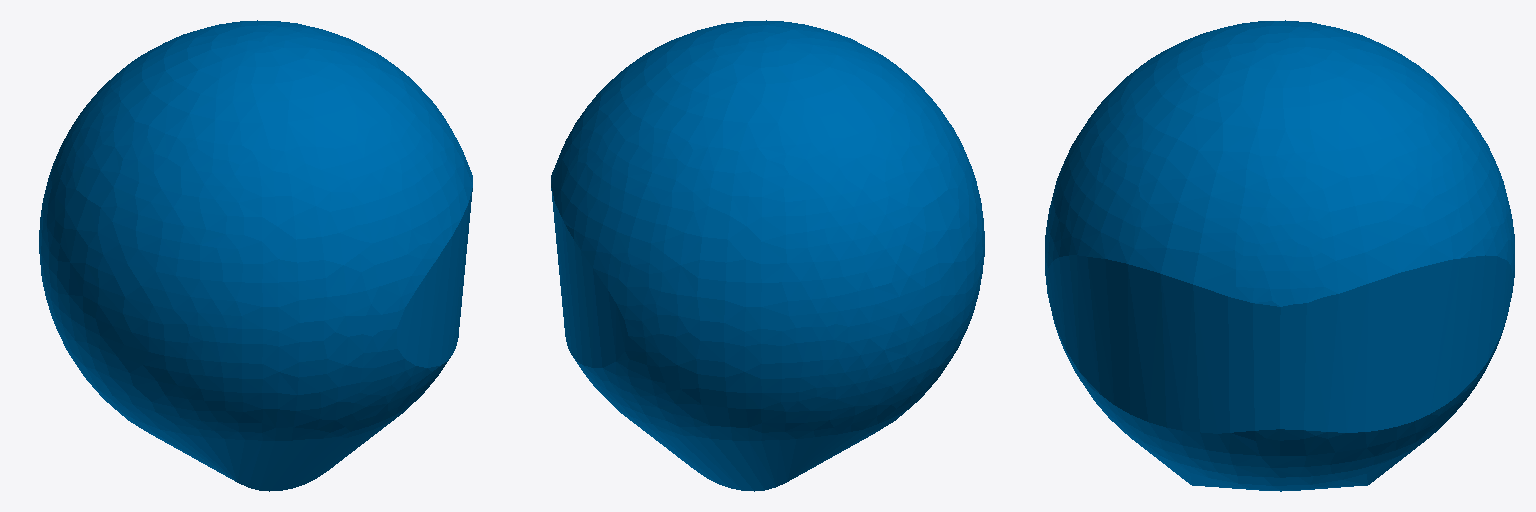
The robot description file, URDF, robot "nubots_nugus_hull":
<?xml version="1.0" ?>
<robot name="nubots_nugus_hull">
  <joint name="nubots_nugus_hull__right_shoulder_pitch" type="revolute">
    <parent link="nubots_nugus_hull__torso"/>
    <child link="nubots_nugus_hull__right_shoulder"/>
    <origin rpy="-1.57079  0       1.57079" xyz="0.005 -0.115  0.18"/>
    <axis xyz="1  0  0"/>
    <limit effort="7.3" lower="-3.14159265359" upper="3.14159265359" velocity="8.16814"/>
  </joint>
  <joint name="nubots_nugus_hull__left_shoulder_pitch" type="revolute">
    <parent link="nubots_nugus_hull__torso"/>
    <child link="nubots_nugus_hull__left_shoulder"/>
    <origin rpy="-1.57079  0       1.57079" xyz="0.005  0.115  0.18"/>
    <axis xyz="1  0  0"/>
    <limit effort="7.3" lower="-3.14159265359" upper="3.14159265359" velocity="8.16814"/>
  </joint>
  <joint name="nubots_nugus_hull__right_shoulder_roll" type="revolute">
    <parent link="nubots_nugus_hull__right_shoulder"/>
    <child link="nubots_nugus_hull__right_upper_arm"/>
    <origin rpy="1.57079  0       0" xyz="-0.015  0     0.005"/>
    <axis xyz="0  0  1"/>
    <limit effort="7.3" lower="-3.14159265359" upper="3.14159265359" velocity="8.16814"/>
  </joint>
  <joint name="nubots_nugus_hull__left_shoulder_roll" type="revolute">
    <parent link="nubots_nugus_hull__left_shoulder"/>
    <child link="nubots_nugus_hull__left_upper_arm"/>
    <origin rpy="1.57079  0       0" xyz="0.015  0     0.005"/>
    <axis xyz="0  0  1"/>
    <limit effort="7.3" lower="-3.14159265359" upper="3.14159265359" velocity="8.16814"/>
  </joint>
  <joint name="nubots_nugus_hull__right_elbow_pitch" type="revolute">
    <parent link="nubots_nugus_hull__right_upper_arm"/>
    <child link="nubots_nugus_hull__right_lower_arm"/>
    <origin rpy="0  0  0" xyz="0.01 -0.19  0.04"/>
    <axis xyz="1  0  0"/>
    <limit effort="7.3" lower="-3.14159265359" upper="3.14159265359" velocity="8.16814"/>
  </joint>
  <joint name="nubots_nugus_hull__left_elbow_pitch" type="revolute">
    <parent link="nubots_nugus_hull__left_upper_arm"/>
    <child link="nubots_nugus_hull__left_lower_arm"/>
    <origin rpy="0  0  0" xyz="-0.01    -0.19     0.03999"/>
    <axis xyz="1  0  0"/>
    <limit effort="7.3" lower="-3.14159265359" upper="3.14159265359" velocity="8.16814"/>
  </joint>
  <joint name="nubots_nugus_hull__right_hip_yaw" type="revolute">
    <parent link="nubots_nugus_hull__torso"/>
    <child link="nubots_nugus_hull__right_hip_yaw"/>
    <origin rpy="0       0       1.57079" xyz="0    -0.055  0"/>
    <axis xyz="0  0  1"/>
    <limit effort="10.0" lower="-3.14159265359" upper="3.14159265359" velocity="5.75959"/>
  </joint>
  <joint name="nubots_nugus_hull__left_hip_yaw" type="revolute">
    <parent link="nubots_nugus_hull__torso"/>
    <child link="nubots_nugus_hull__left_hip_yaw"/>
    <origin rpy="0       0       1.57079" xyz="0     0.055  0"/>
    <axis xyz="0  0  1"/>
    <limit effort="10.0" lower="-3.14159265359" upper="3.14159265359" velocity="5.75959"/>
  </joint>
  <joint name="nubots_nugus_hull__right_hip_roll" type="revolute">
    <parent link="nubots_nugus_hull__right_hip_yaw"/>
    <child link="nubots_nugus_hull__right_hip_roll"/>
    <origin rpy="0  0  0" xyz="0    0   -0.06"/>
    <axis xyz="0 -1  0"/>
    <limit effort="10.0" lower="-3.14159265359" upper="3.14159265359" velocity="5.75959"/>
  </joint>
  <joint name="nubots_nugus_hull__left_hip_roll" type="revolute">
    <parent link="nubots_nugus_hull__left_hip_yaw"/>
    <child link="nubots_nugus_hull__left_hip_roll"/>
    <origin rpy="0  0  0" xyz="0    0   -0.06"/>
    <axis xyz="0 -1  0"/>
    <limit effort="10.0" lower="-3.14159265359" upper="3.14159265359" velocity="5.75959"/>
  </joint>
  <joint name="nubots_nugus_hull__right_hip_pitch" type="revolute">
    <parent link="nubots_nugus_hull__right_hip_roll"/>
    <child link="nubots_nugus_hull__right_upper_leg"/>
    <origin rpy="-0.05  0    0" xyz="0   -0.01  0.01"/>
    <axis xyz="1  0  0"/>
    <limit effort="10.0" lower="-3.14159265359" upper="3.14159265359" velocity="5.75959"/>
  </joint>
  <joint name="nubots_nugus_hull__left_hip_pitch" type="revolute">
    <parent link="nubots_nugus_hull__left_hip_roll"/>
    <child link="nubots_nugus_hull__left_upper_leg"/>
    <origin rpy="-0.05  0    0" xyz="0   -0.01  0"/>
    <axis xyz="1  0  0"/>
    <limit effort="10.0" lower="-3.14159265359" upper="3.14159265359" velocity="5.75959"/>
  </joint>
  <joint name="nubots_nugus_hull__right_knee_pitch" type="revolute">
    <parent link="nubots_nugus_hull__right_upper_leg"/>
    <child link="nubots_nugus_hull__right_lower_leg"/>
    <origin rpy="0.05  0    0" xyz="0       0.00999 -0.19975"/>
    <axis xyz="1  0  0"/>
    <limit effort="10.0" lower="-3.14159265359" upper="3.14159265359" velocity="5.75959"/>
  </joint>
  <joint name="nubots_nugus_hull__left_knee_pitch" type="revolute">
    <parent link="nubots_nugus_hull__left_upper_leg"/>
    <child link="nubots_nugus_hull__left_lower_leg"/>
    <origin rpy="0.05  0    0" xyz="0       0.00949 -0.18976"/>
    <axis xyz="1  0  0"/>
    <limit effort="10.0" lower="-3.14159265359" upper="3.14159265359" velocity="5.75959"/>
  </joint>
  <joint name="nubots_nugus_hull__right_ankle_pitch" type="revolute">
    <parent link="nubots_nugus_hull__right_lower_leg"/>
    <child link="nubots_nugus_hull__right_ankle"/>
    <origin rpy="3.14159  0       3.14159" xyz="0    0.01 -0.2"/>
    <axis xyz="-1  0  0"/>
    <limit effort="10.0" lower="-3.14159265359" upper="3.14159265359" velocity="5.75959"/>
  </joint>
  <joint name="nubots_nugus_hull__left_ankle_pitch" type="revolute">
    <parent link="nubots_nugus_hull__left_lower_leg"/>
    <child link="nubots_nugus_hull__left_ankle"/>
    <origin rpy="3.14159  0       3.14159" xyz="0    0.01 -0.2"/>
    <axis xyz="-1  0  0"/>
    <limit effort="10.0" lower="-3.14159265359" upper="3.14159265359" velocity="5.75959"/>
  </joint>
  <joint name="nubots_nugus_hull__right_ankle_roll" type="revolute">
    <parent link="nubots_nugus_hull__right_ankle"/>
    <child link="nubots_nugus_hull__right_foot"/>
    <origin rpy="3.14159  0      -3.14159" xyz="0    0.04  0"/>
    <axis xyz="0 -1  0"/>
    <limit effort="10.0" lower="-3.14159265359" upper="3.14159265359" velocity="5.75959"/>
  </joint>
  <joint name="nubots_nugus_hull__left_ankle_roll" type="revolute">
    <parent link="nubots_nugus_hull__left_ankle"/>
    <child link="nubots_nugus_hull__left_foot"/>
    <origin rpy="3.14159  0      -3.14159" xyz="0    0.04  0"/>
    <axis xyz="0 -1  0"/>
    <limit effort="10.0" lower="-3.14159265359" upper="3.14159265359" velocity="5.75959"/>
  </joint>
  <joint name="nubots_nugus_hull__neck_yaw" type="revolute">
    <parent link="nubots_nugus_hull__torso"/>
    <child link="nubots_nugus_hull__neck"/>
    <origin rpy="0       0       1.57079" xyz="0    0    0.26"/>
    <axis xyz="0  0  1"/>
    <limit effort="7.3" lower="-3.14159265359" upper="3.14159265359" velocity="8.16814"/>
  </joint>
  <joint name="nubots_nugus_hull__head_pitch" type="revolute">
    <parent link="nubots_nugus_hull__neck"/>
    <child link="nubots_nugus_hull__head"/>
    <origin rpy="0  0  0" xyz="0    0    0.07"/>
    <axis xyz="1  0  0"/>
    <limit effort="7.3" lower="-3.14159265359" upper="3.14159265359" velocity="8.16814"/>
  </joint>
  <link name="nubots_nugus_hull__torso">
    <inertial>
      <mass value="2.539"/>
      <origin rpy="0  0  0" xyz="0.005    0.00888  0.10215"/>
      <inertia ixx="0.0166572872071" ixy="0.00154518589069" ixz="0.00493865774288" iyy="0.00422523541751" iyz="0.00120275338963" izz="0.0555077839106"/>
    </inertial>
    <collision name="nubots_nugus_hull__torso_collision">
      <origin rpy="0       0       1.57079" xyz="0  0  0"/>
      <geometry>
        <mesh filename="mesh/torso.stl" scale="1 1 1"/>
      </geometry>
    </collision>
    <visual name="nubots_nugus_hull__torso_visual">
      <origin rpy="0       0       1.57079" xyz="0  0  0"/>
      <geometry>
        <mesh filename="mesh/torso.stl" scale="1 1 1"/>
      </geometry>
    </visual>
  </link>
  <link name="nubots_nugus_hull__right_shoulder">
    <inertial>
      <mass value="0.025434"/>
      <origin rpy="0  0  0" xyz="0.00349 -0.00168  0.00375"/>
      <inertia ixx="0.000636" ixy="2e-06" ixz="-3.5e-05" iyy="0.000485" iyz="6e-06" izz="0.000628"/>
    </inertial>
    <collision name="nubots_nugus_hull__right_shoulder_collision">
      <origin rpy="0  0  0" xyz="0  0  0"/>
      <geometry>
        <mesh filename="mesh/right_shoulder.stl" scale="1 1 1"/>
      </geometry>
    </collision>
    <visual name="nubots_nugus_hull__right_shoulder_visual">
      <origin rpy="0  0  0" xyz="0  0  0"/>
      <geometry>
        <mesh filename="mesh/right_shoulder.stl" scale="1 1 1"/>
      </geometry>
    </visual>
  </link>
  <link name="nubots_nugus_hull__left_shoulder">
    <inertial>
      <mass value="0.025434"/>
      <origin rpy="0  0  0" xyz="0.00349 -0.00168  0.00375"/>
      <inertia ixx="0.000636" ixy="-2e-06" ixz="-3.5e-05" iyy="0.000485" iyz="-6e-06" izz="0.000628"/>
    </inertial>
    <collision name="nubots_nugus_hull__left_shoulder_collision">
      <origin rpy="0  0  0" xyz="0  0  0"/>
      <geometry>
        <mesh filename="mesh/left_shoulder.stl" scale="1 1 1"/>
      </geometry>
    </collision>
    <visual name="nubots_nugus_hull__left_shoulder_visual">
      <origin rpy="0  0  0" xyz="0  0  0"/>
      <geometry>
        <mesh filename="mesh/left_shoulder.stl" scale="1 1 1"/>
      </geometry>
    </visual>
  </link>
  <link name="nubots_nugus_hull__right_upper_arm">
    <inertial>
      <mass value="0.297"/>
      <origin rpy="0  0  0" xyz="-0.00047 -0.00048 -0.04785"/>
      <inertia ixx="0.00244090259623" ixy="-3.67136912481e-06" ixz="-0.000138914522851" iyy="0.0022838340537" iyz="-1.97953337853e-05" izz="0.000536693721409"/>
    </inertial>
    <collision name="nubots_nugus_hull__right_upper_arm_collision">
      <origin rpy="0  0  0" xyz="0  0  0"/>
      <geometry>
        <mesh filename="mesh/right_upper_arm.stl" scale="1 1 1"/>
      </geometry>
    </collision>
    <visual name="nubots_nugus_hull__right_upper_arm_visual">
      <origin rpy="0  0  0" xyz="0  0  0"/>
      <geometry>
        <mesh filename="mesh/right_upper_arm.stl" scale="1 1 1"/>
      </geometry>
    </visual>
  </link>
  <link name="nubots_nugus_hull__left_upper_arm">
    <inertial>
      <mass value="0.297"/>
      <origin rpy="0  0  0" xyz="-0.00047  0.00048 -0.04785"/>
      <inertia ixx="0.00244090259623" ixy="-3.67136912481e-06" ixz="-0.000138914522851" iyy="0.0022838340537" iyz="-1.97953337853e-05" izz="0.000536693721409"/>
    </inertial>
    <collision name="nubots_nugus_hull__left_upper_arm_collision">
      <origin rpy="0  0  0" xyz="0  0  0"/>
      <geometry>
        <mesh filename="mesh/left_upper_arm.stl" scale="1 1 1"/>
      </geometry>
    </collision>
    <visual name="nubots_nugus_hull__left_upper_arm_visual">
      <origin rpy="0  0  0" xyz="0  0  0"/>
      <geometry>
        <mesh filename="mesh/left_upper_arm.stl" scale="1 1 1"/>
      </geometry>
    </visual>
  </link>
  <link name="nubots_nugus_hull__right_lower_arm">
    <inertial>
      <mass value="0.26"/>
      <origin rpy="0  0  0" xyz="0.05336 -0.00081  0.0006"/>
      <inertia ixx="0.0003407158556" ixy="0.000118236734121" ixz="-2.88307886182e-05" iyy="0.00176921345035" iyz="4.6856873015e-06" izz="0.00161805925411"/>
    </inertial>
    <collision name="nubots_nugus_hull__right_lower_arm_collision">
      <origin rpy="0  0  0" xyz="0  0  0"/>
      <geometry>
        <mesh filename="mesh/right_lower_arm.stl" scale="1 1 1"/>
      </geometry>
    </collision>
    <visual name="nubots_nugus_hull__right_lower_arm_visual">
      <origin rpy="0  0  0" xyz="0  0  0"/>
      <geometry>
        <mesh filename="mesh/right_lower_arm.stl" scale="1 1 1"/>
      </geometry>
    </visual>
  </link>
  <link name="nubots_nugus_hull__left_lower_arm">
    <inertial>
      <mass value="0.26"/>
      <origin rpy="0  0  0" xyz="0.05336 -0.00081  0.0006"/>
      <inertia ixx="0.0003407158556" ixy="0.000118236734121" ixz="-2.88307886182e-05" iyy="0.00176921345035" iyz="4.6856873015e-06" izz="0.00161805925411"/>
    </inertial>
    <collision name="nubots_nugus_hull__left_lower_arm_collision">
      <origin rpy="0  0  0" xyz="0  0  0"/>
      <geometry>
        <mesh filename="mesh/left_lower_arm.stl" scale="1 1 1"/>
      </geometry>
    </collision>
    <visual name="nubots_nugus_hull__left_lower_arm_visual">
      <origin rpy="0  0  0" xyz="0  0  0"/>
      <geometry>
        <mesh filename="mesh/left_lower_arm.stl" scale="1 1 1"/>
      </geometry>
    </visual>
  </link>
  <link name="nubots_nugus_hull__right_hip_yaw">
    <inertial>
      <mass value="0.067"/>
      <origin rpy="0  0  0" xyz="-0.00218 -0.04605 -0.02475"/>
      <inertia ixx="0.000882290820872" ixy="1.67744972811e-06" ixz="-7.82340516059e-06" iyy="0.0017446691852" iyz="-2.5331607648e-05" izz="0.00199696722705"/>
    </inertial>
    <collision name="nubots_nugus_hull__right_hip_yaw_collision">
      <origin rpy="0  0  0" xyz="0  0  0"/>
      <geometry>
        <mesh filename="mesh/right_hip_yaw.stl" scale="1 1 1"/>
      </geometry>
    </collision>
    <visual name="nubots_nugus_hull__right_hip_yaw_visual">
      <origin rpy="0  0  0" xyz="0  0  0"/>
      <geometry>
        <mesh filename="mesh/right_hip_yaw.stl" scale="1 1 1"/>
      </geometry>
    </visual>
  </link>
  <link name="nubots_nugus_hull__left_hip_yaw">
    <inertial>
      <mass value="0.067"/>
      <origin rpy="0  0  0" xyz="-0.00218  0.04605 -0.02475"/>
      <inertia ixx="0.000882226060809" ixy="-1.70552313911e-06" ixz="-7.85442766165e-06" iyy="0.00174462757152" iyz="2.53317940902e-05" izz="0.00199699030659"/>
    </inertial>
    <collision name="nubots_nugus_hull__left_hip_yaw_collision">
      <origin rpy="0  0  0" xyz="0  0  0"/>
      <geometry>
        <mesh filename="mesh/left_hip_yaw.stl" scale="1 1 1"/>
      </geometry>
    </collision>
    <visual name="nubots_nugus_hull__left_hip_yaw_visual">
      <origin rpy="0  0  0" xyz="0  0  0"/>
      <geometry>
        <mesh filename="mesh/left_hip_yaw.stl" scale="1 1 1"/>
      </geometry>
    </visual>
  </link>
  <link name="nubots_nugus_hull__right_hip_roll">
    <inertial>
      <mass value="0.306"/>
      <origin rpy="0  0  0" xyz="1.57300000e-02  -3.00000000e-05  -2.07100000e-02"/>
      <inertia ixx="0.00011792969792" ixy="3.75077766164e-06" ixz="-3.76239396173e-06" iyy="0.000216752921659" iyz="-1.04719102357e-06" izz="0.00026193571108"/>
    </inertial>
    <collision name="nubots_nugus_hull__right_hip_roll_collision">
      <origin rpy="0  0  0" xyz="0  0  0"/>
      <geometry>
        <mesh filename="mesh/right_hip_roll.stl" scale="1 1 1"/>
      </geometry>
    </collision>
    <visual name="nubots_nugus_hull__right_hip_roll_visual">
      <origin rpy="0  0  0" xyz="0  0  0"/>
      <geometry>
        <mesh filename="mesh/right_hip_roll.stl" scale="1 1 1"/>
      </geometry>
    </visual>
  </link>
  <link name="nubots_nugus_hull__left_hip_roll">
    <inertial>
      <mass value="0.306"/>
      <origin rpy="0  0  0" xyz="1.57300000e-02   3.00000000e-05  -2.07100000e-02"/>
      <inertia ixx="0.00011792969792" ixy="3.75077766164e-06" ixz="-3.76239396173e-06" iyy="0.000216752921659" iyz="-1.04719102357e-06" izz="0.00026193571108"/>
    </inertial>
    <collision name="nubots_nugus_hull__left_hip_roll_collision">
      <origin rpy="0  0  0" xyz="0  0  0"/>
      <geometry>
        <mesh filename="mesh/left_hip_roll.stl" scale="1 1 1"/>
      </geometry>
    </collision>
    <visual name="nubots_nugus_hull__left_hip_roll_visual">
      <origin rpy="0  0  0" xyz="0  0  0"/>
      <geometry>
        <mesh filename="mesh/left_hip_roll.stl" scale="1 1 1"/>
      </geometry>
    </visual>
  </link>
  <link name="nubots_nugus_hull__right_upper_leg">
    <inertial>
      <mass value="0.387"/>
      <origin rpy="0  0  0" xyz="-0.08682 -0.00099 -0.00322"/>
      <inertia ixx="0.000696700519632" ixy="-9.53476806421e-06" ixz="-0.000470624649862" iyy="0.00239278787906" iyz="1.16876636437e-07" izz="0.00205692152569"/>
    </inertial>
    <collision name="nubots_nugus_hull__right_upper_leg_collision">
      <origin rpy="0  0  0" xyz="0  0  0"/>
      <geometry>
        <mesh filename="mesh/right_upper_leg.stl" scale="1 1 1"/>
      </geometry>
    </collision>
    <visual name="nubots_nugus_hull__right_upper_leg_visual">
      <origin rpy="0  0  0" xyz="0  0  0"/>
      <geometry>
        <mesh filename="mesh/right_upper_leg.stl" scale="1 1 1"/>
      </geometry>
    </visual>
  </link>
  <link name="nubots_nugus_hull__left_upper_leg">
    <inertial>
      <mass value="0.387"/>
      <origin rpy="0  0  0" xyz="-0.08682 -0.00099 -0.00322"/>
      <inertia ixx="0.000696700519632" ixy="9.53476806421e-06" ixz="-0.000470624649862" iyy="0.00239278787906" iyz="-1.16876636437e-07" izz="0.00205692152569"/>
    </inertial>
    <collision name="nubots_nugus_hull__left_upper_leg_collision">
      <origin rpy="0  0  0" xyz="0  0  0"/>
      <geometry>
        <mesh filename="mesh/left_upper_leg.stl" scale="1 1 1"/>
      </geometry>
    </collision>
    <visual name="nubots_nugus_hull__left_upper_leg_visual">
      <origin rpy="0  0  0" xyz="0  0  0"/>
      <geometry>
        <mesh filename="mesh/left_upper_leg.stl" scale="1 1 1"/>
      </geometry>
    </visual>
  </link>
  <link name="nubots_nugus_hull__right_lower_leg">
    <inertial>
      <mass value="0.177"/>
      <origin rpy="0  0  0" xyz="-0.1      0.00128 -0.00707"/>
      <inertia ixx="0.000262985314881" ixy="-8.38322526059e-06" ixz="0.000263433998983" iyy="0.00158709194955" iyz="-6.90920077416e-07" izz="0.00141772095062"/>
    </inertial>
    <collision name="nubots_nugus_hull__right_lower_leg_collision">
      <origin rpy="0  0  0" xyz="0  0  0"/>
      <geometry>
        <mesh filename="mesh/right_lower_leg.stl" scale="1 1 1"/>
      </geometry>
    </collision>
    <visual name="nubots_nugus_hull__right_lower_leg_visual">
      <origin rpy="0  0  0" xyz="0  0  0"/>
      <geometry>
        <mesh filename="mesh/right_lower_leg.stl" scale="1 1 1"/>
      </geometry>
    </visual>
  </link>
  <link name="nubots_nugus_hull__left_lower_leg">
    <inertial>
      <mass value="0.177"/>
      <origin rpy="0  0  0" xyz="-0.1      0.00128 -0.00707"/>
      <inertia ixx="0.000262985314881" ixy="8.38322526059e-06" ixz="0.000263433998983" iyy="0.00158709194955" iyz="6.90920077416e-07" izz="0.00141772095062"/>
    </inertial>
    <collision name="nubots_nugus_hull__left_lower_leg_collision">
      <origin rpy="0  0  0" xyz="0  0  0"/>
      <geometry>
        <mesh filename="mesh/left_lower_leg.stl" scale="1 1 1"/>
      </geometry>
    </collision>
    <visual name="nubots_nugus_hull__left_lower_leg_visual">
      <origin rpy="0  0  0" xyz="0  0  0"/>
      <geometry>
        <mesh filename="mesh/left_lower_leg.stl" scale="1 1 1"/>
      </geometry>
    </visual>
  </link>
  <link name="nubots_nugus_hull__right_ankle">
    <inertial>
      <mass value="0.306"/>
      <origin rpy="0  0  0" xyz="-0.01573  0.00051 -0.02197"/>
      <inertia ixx="0.00011792969792" ixy="3.75077766164e-06" ixz="3.76239396173e-06" iyy="0.000216752921659" iyz="1.04719102357e-06" izz="0.00026193571108"/>
    </inertial>
    <collision name="nubots_nugus_hull__right_ankle_collision">
      <origin rpy="0  0  0" xyz="0  0  0"/>
      <geometry>
        <mesh filename="mesh/right_ankle.stl" scale="1 1 1"/>
      </geometry>
    </collision>
    <visual name="nubots_nugus_hull__right_ankle_visual">
      <origin rpy="0  0  0" xyz="0  0  0"/>
      <geometry>
        <mesh filename="mesh/right_ankle.stl" scale="1 1 1"/>
      </geometry>
    </visual>
  </link>
  <link name="nubots_nugus_hull__left_ankle">
    <inertial>
      <mass value="0.306"/>
      <origin rpy="0  0  0" xyz="-0.01573  0.00051 -0.02197"/>
      <inertia ixx="0.00011792969792" ixy="-3.75077766164e-06" ixz="3.76239396173e-06" iyy="0.000216752921659" iyz="-1.04719102357e-06" izz="0.00026193571108"/>
    </inertial>
    <collision name="nubots_nugus_hull__left_ankle_collision">
      <origin rpy="0  0  0" xyz="0  0  0"/>
      <geometry>
        <mesh filename="mesh/left_ankle.stl" scale="1 1 1"/>
      </geometry>
    </collision>
    <visual name="nubots_nugus_hull__left_ankle_visual">
      <origin rpy="0  0  0" xyz="0  0  0"/>
      <geometry>
        <mesh filename="mesh/left_ankle.stl" scale="1 1 1"/>
      </geometry>
    </visual>
  </link>
  <link name="nubots_nugus_hull__right_foot">
    <inertial>
      <mass value="0.205"/>
      <origin rpy="0  0  0" xyz="0.0308   0.00877  0.01129"/>
      <inertia ixx="0.000469227615567" ixy="1.23728985389e-05" ixz="5.16561744473e-06" iyy="0.0010836186025" iyz="-1.75941501866e-06" izz="0.00139011775571"/>
    </inertial>
    <collision name="nubots_nugus_hull__right_foot_collision">
      <origin rpy="0  0  0" xyz="0  0  0"/>
      <geometry>
        <mesh filename="mesh/right_foot.stl" scale="1 1 1"/>
      </geometry>
    </collision>
    <visual name="nubots_nugus_hull__right_foot_visual">
      <origin rpy="0  0  0" xyz="0  0  0"/>
      <geometry>
        <mesh filename="mesh/right_foot.stl" scale="1 1 1"/>
      </geometry>
    </visual>
  </link>
  <link name="nubots_nugus_hull__left_foot">
    <inertial>
      <mass value="0.205"/>
      <origin rpy="0  0  0" xyz="0.0308   0.00877  0.01129"/>
      <inertia ixx="0.000469227615567" ixy="-1.23728985389e-05" ixz="5.16561744473e-06" iyy="0.0010836186025" iyz="1.75941501866e-06" izz="0.00139011775571"/>
    </inertial>
    <collision name="nubots_nugus_hull__left_foot_collision">
      <origin rpy="0  0  0" xyz="0  0  0"/>
      <geometry>
        <mesh filename="mesh/left_foot.stl" scale="1 1 1"/>
      </geometry>
    </collision>
    <visual name="nubots_nugus_hull__left_foot_visual">
      <origin rpy="0  0  0" xyz="0  0  0"/>
      <geometry>
        <mesh filename="mesh/left_foot.stl" scale="1 1 1"/>
      </geometry>
    </visual>
  </link>
  <link name="nubots_nugus_hull__neck">
    <inertial>
      <mass value="0.135"/>
      <origin rpy="0  0  0" xyz="-0.00603 -0.0016   0.24115"/>
      <inertia ixx="0.000411112411154" ixy="1.34448293546e-10" ixz="-3.64693458364e-10" iyy="0.000343174942176" iyz="-1.24602176867e-05" izz="0.000233389890355"/>
    </inertial>
    <collision name="nubots_nugus_hull__neck_collision">
      <origin rpy="0  0  0" xyz="0  0  0"/>
      <geometry>
        <mesh filename="mesh/neck.stl" scale="1 1 1"/>
      </geometry>
    </collision>
    <visual name="nubots_nugus_hull__neck_visual">
      <origin rpy="0  0  0" xyz="0  0  0"/>
      <geometry>
        <mesh filename="mesh/neck.stl" scale="1 1 1"/>
      </geometry>
    </visual>
  </link>
  <link name="nubots_nugus_hull__head">
    <inertial>
      <mass value="0.419"/>
      <origin rpy="0  0  0" xyz="-0.05482 -0.0001   0.00117"/>
      <inertia ixx="0.00522954263224" ixy="8.06868913029e-07" ixz="-7.85419377514e-05" iyy="0.00427382206022" iyz="2.26332170851e-07" izz="0.00333363205267"/>
    </inertial>
    <collision name="nubots_nugus_hull__head_collision">
      <origin rpy="0  0  0" xyz="0  0  0"/>
      <geometry>
        <mesh filename="mesh/head.stl" scale="1 1 1"/>
      </geometry>
    </collision>
    <visual name="nubots_nugus_hull__head_visual">
      <origin rpy="0  0  0" xyz="0  0  0"/>
      <geometry>
        <mesh filename="mesh/head.stl" scale="1 1 1"/>
      </geometry>
    </visual>
  </link>
</robot>

--- Render facts (derived) ---
The picture shows the robot from 3 angles, left to right: view 1: azimuth 30°, elevation 25°; view 2: azimuth 150°, elevation 25°; view 3: azimuth 270°, elevation 25°; orthographic projection.
Robot: nubots_nugus_hull — 21 links, 20 joints (20 revolute); root link nubots_nugus_hull__torso; default pose: every joint at zero.
Links seen in each view (by area): view 1: nubots_nugus_hull__head; view 2: nubots_nugus_hull__head; view 3: nubots_nugus_hull__head.
Link boxes in pixels (<box>): nubots_nugus_hull__head: <box>39,20,472,491</box>; nubots_nugus_hull__head: <box>551,20,984,491</box>; nubots_nugus_hull__head: <box>1045,20,1514,491</box>.
Bounding box of the posed robot: 0.1562 × 0.1578 × 0.1627 m (x, y, z).
Meshes: 21 distinct files referenced, 1 mesh visuals loaded (1 binary STL); not drawn: 20 (reference not matched to a file when rendering).